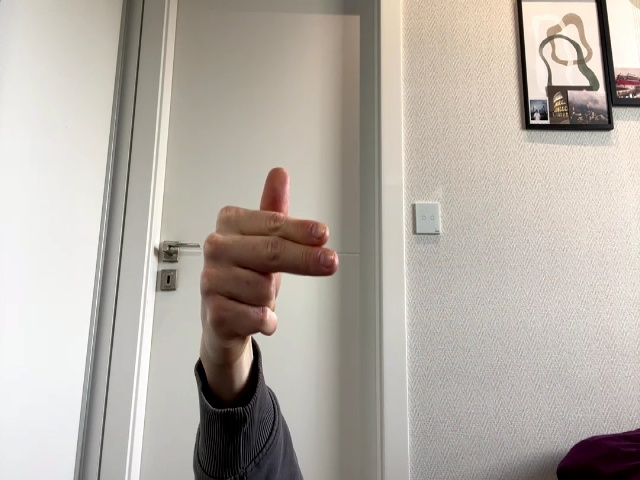N: (200, 167, 339, 342)
